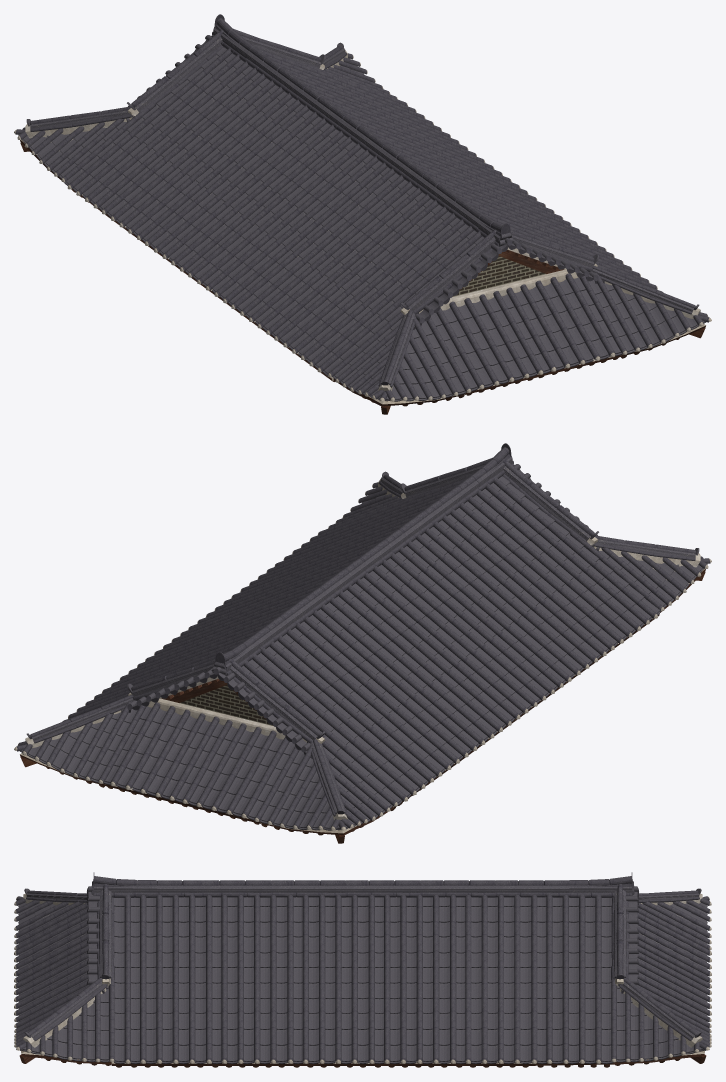
The model's file is SM_R_Punghuadang.fbx.
3 views of the same model, one above another, from view 1: azimuth 30°, elevation 25°; view 2: azimuth 150°, elevation 25°; view 3: azimuth 270°, elevation 25° (orthographic). The views are drawn at different scales.
Parts seen in each view (by area): view 1: SM_R_Punghuadang; view 2: SM_R_Punghuadang; view 3: SM_R_Punghuadang.
Part boxes in pixels (x1,y1,x2,y2): SM_R_Punghuadang: (14,14,711,414); SM_R_Punghuadang: (14,443,711,843); SM_R_Punghuadang: (14,872,711,1067).
Size of the model in its own units: 989 by 1869 by 405.
5 materials, 5 textured.
